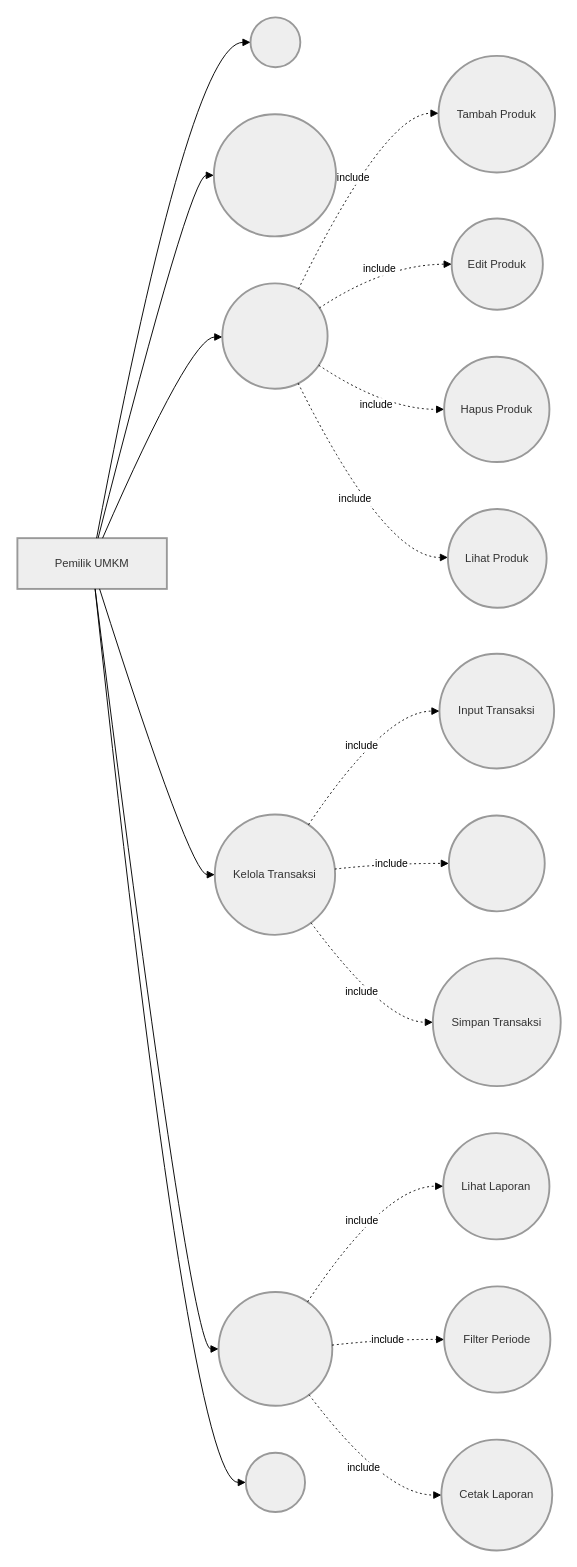
Image size: 577x1567. Some labels were removed from this diagram. Here are the shapes that lost their labels. From the top down, the centre of each, then its label:
(x=275, y=42): Login
(x=274, y=175): Lihat Dashboard
(x=274, y=335): Kelola Produk
(x=496, y=863): Hitung Total
(x=275, y=1348): Kelola Laporan
(x=275, y=1481): Logout
